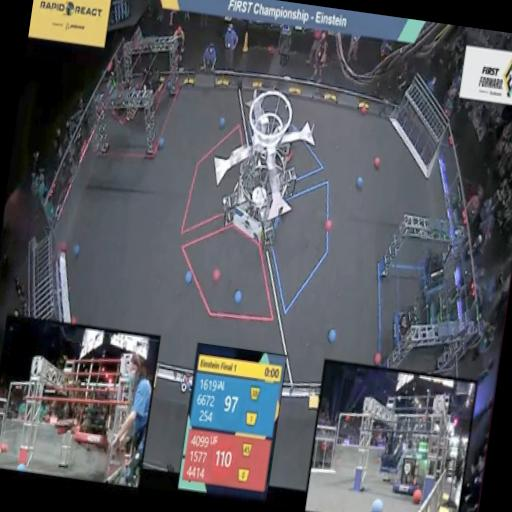robot: (420, 276, 473, 352), (387, 294, 430, 362), (414, 231, 456, 300), (131, 52, 169, 114), (104, 71, 140, 134), (268, 122, 302, 186)
